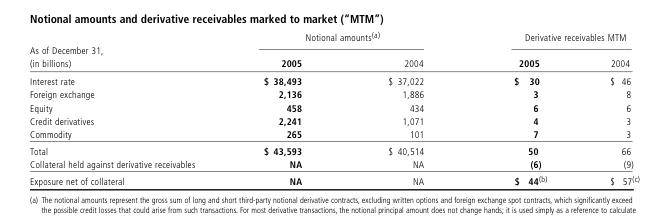table: (29, 29, 638, 186)
table column: (29, 29, 228, 186), (344, 29, 468, 186), (228, 29, 344, 186), (468, 29, 577, 186), (577, 29, 638, 186)
table column header: (29, 29, 638, 71)
table row: (29, 49, 638, 71), (29, 29, 638, 49), (29, 71, 638, 87), (29, 126, 638, 141), (29, 141, 638, 156), (29, 156, 638, 171), (29, 171, 638, 186), (29, 87, 638, 100), (29, 100, 638, 113), (29, 113, 638, 126)
table spanning cell: (29, 29, 228, 71), (228, 29, 468, 49), (468, 29, 638, 49)
